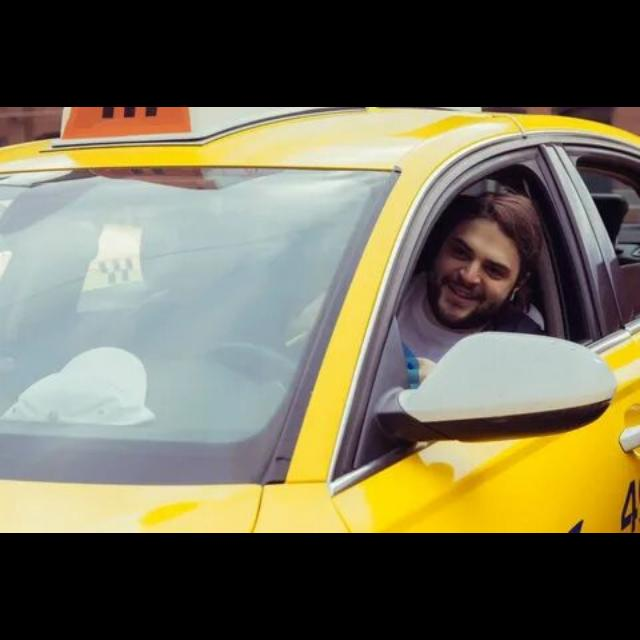taxi: (1, 109, 639, 534)
